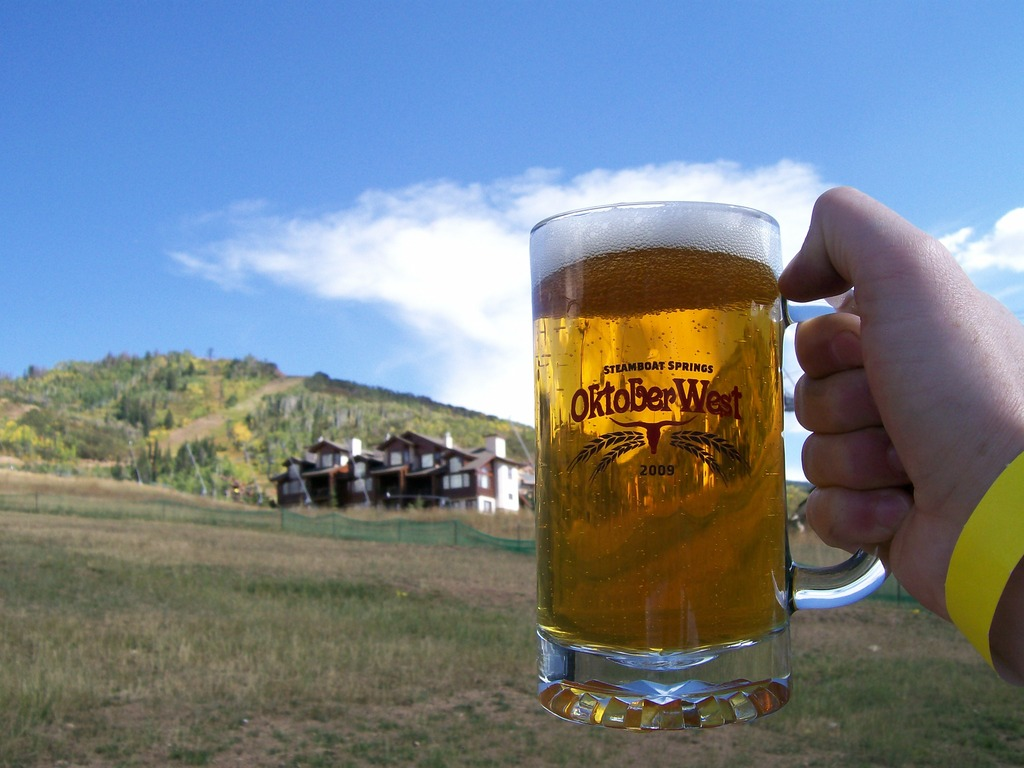Beer: (504, 177, 894, 738)
